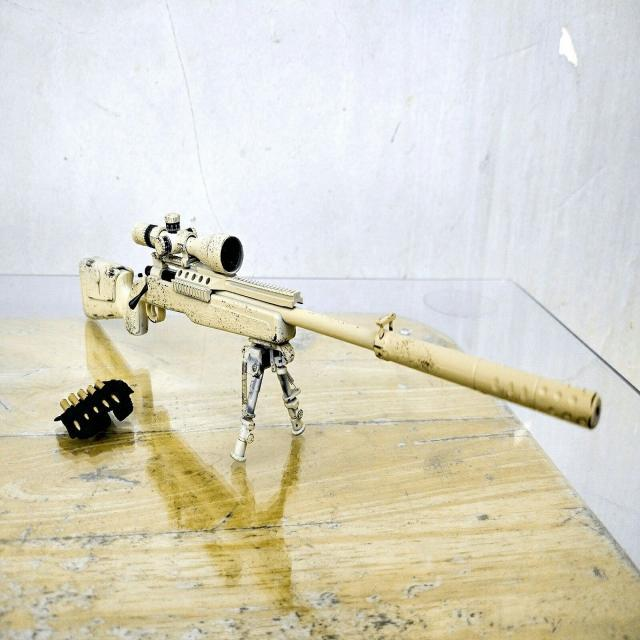rifle: (60, 203, 611, 484)
